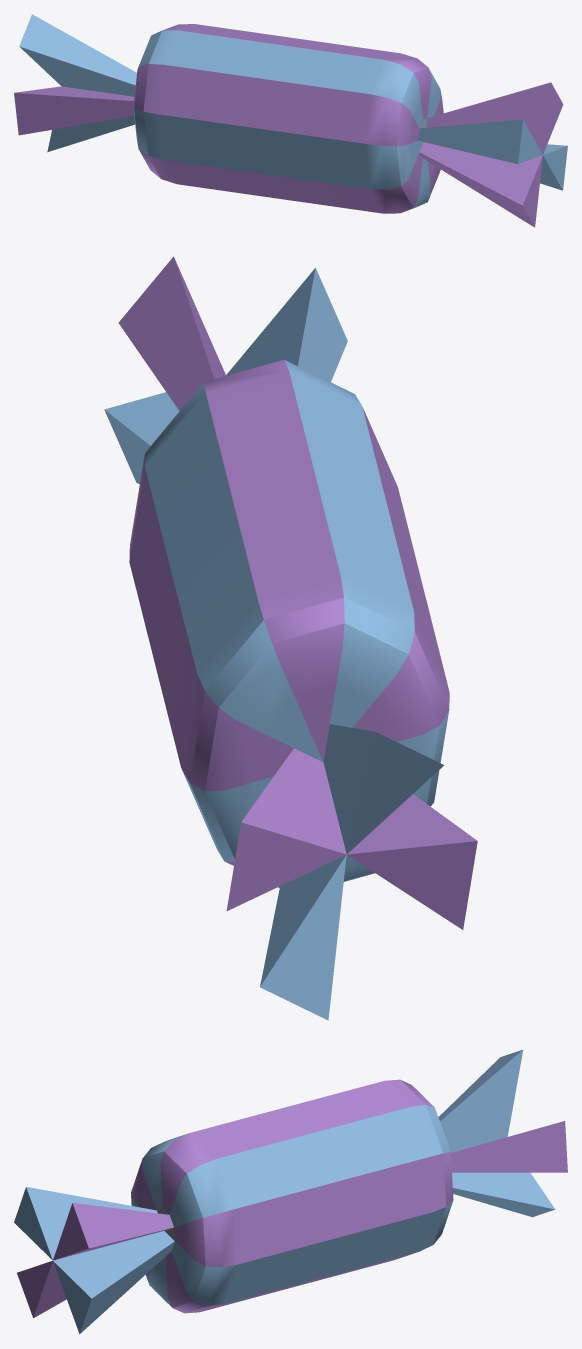
File: CANDY4.fbx
3 views of the same model, one above another, from view 1: azimuth 30°, elevation 25°; view 2: azimuth 150°, elevation 25°; view 3: azimuth 270°, elevation 25° (orthographic). The views are drawn at different scales.
Parts seen in each view (by area): view 1: polySurface717; view 2: polySurface717; view 3: polySurface717.
Part boxes in pixels (x1,y1,x2,y2): polySurface717: (14,14,567,227); polySurface717: (104,256,477,1020); polySurface717: (14,1049,567,1334).
Bounding box in the file's own units: 4.92 × 2.1 × 5.9.
